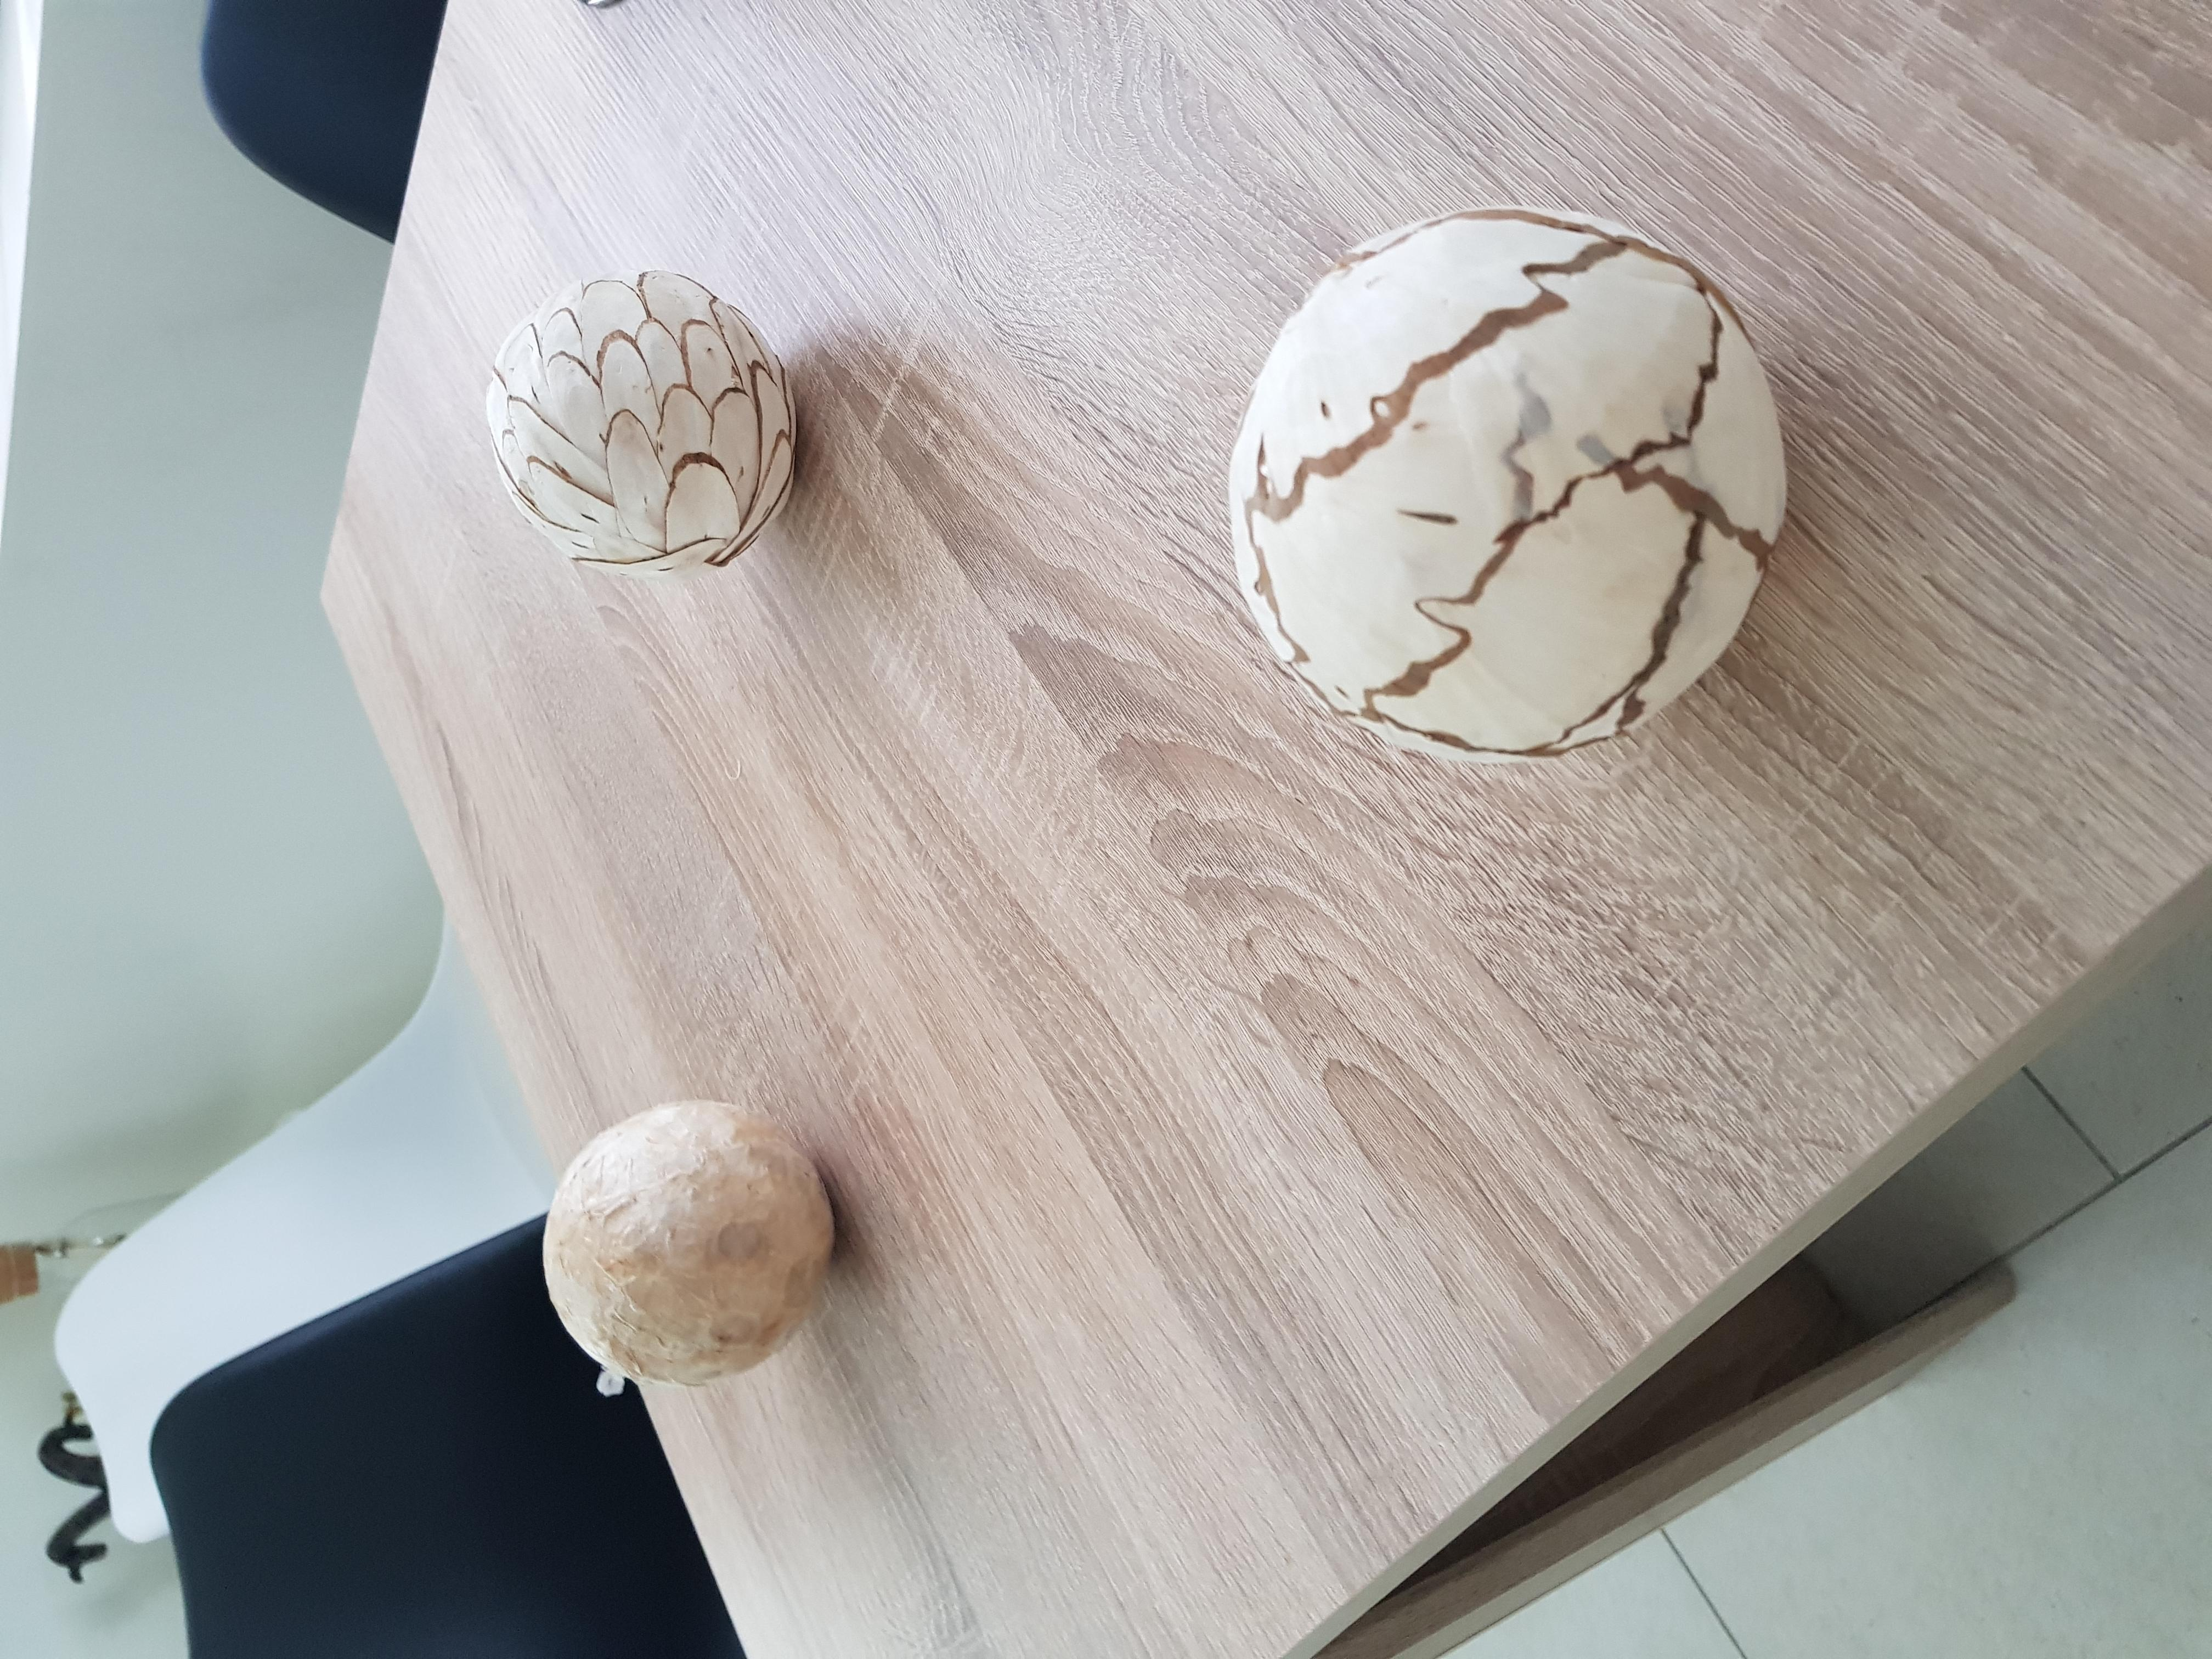sphere: (1226, 190, 1797, 756), (482, 263, 801, 584), (543, 1093, 848, 1391)
